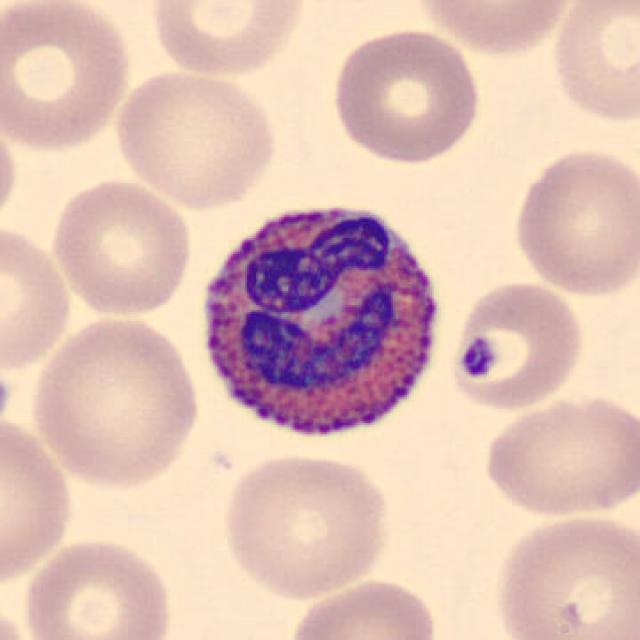Eosinophil: (185, 185, 453, 460)
Platelets: (452, 330, 512, 384)
RBC: (25, 310, 204, 492), (217, 450, 395, 601), (110, 67, 281, 210), (327, 24, 485, 166), (46, 176, 196, 319), (0, 0, 137, 155), (507, 143, 638, 300), (476, 392, 636, 520), (488, 509, 638, 640), (446, 277, 588, 414), (19, 532, 178, 640), (0, 409, 78, 591), (143, 0, 309, 79), (546, 0, 640, 129), (0, 220, 75, 378), (284, 575, 442, 640), (405, 0, 579, 56), (0, 112, 21, 236), (0, 597, 35, 640)
